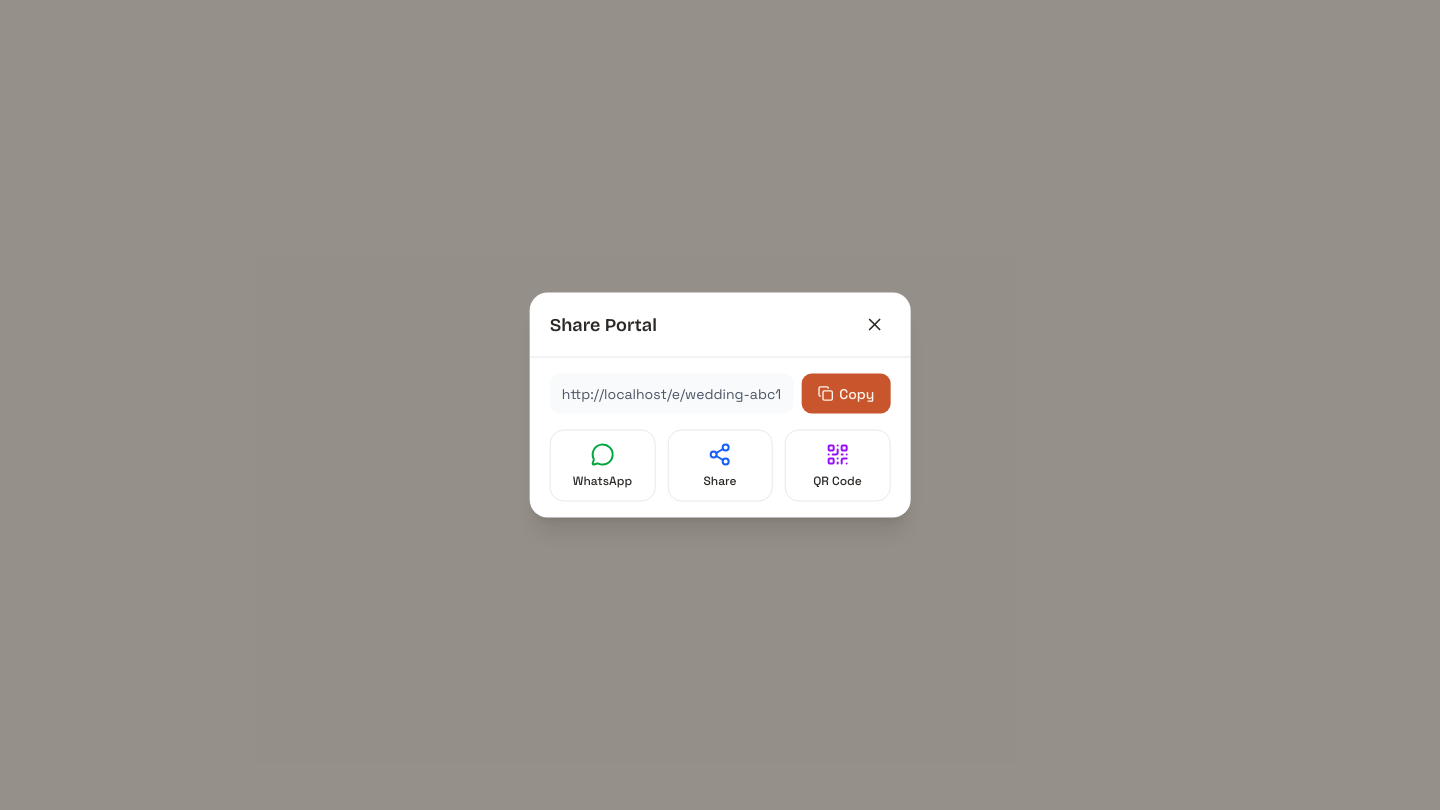
Test: ShareModal › shows 'Copied!' after copy
Step 1. Click the button with test id "share-copy" → (846, 394), box [801,374,890,414]
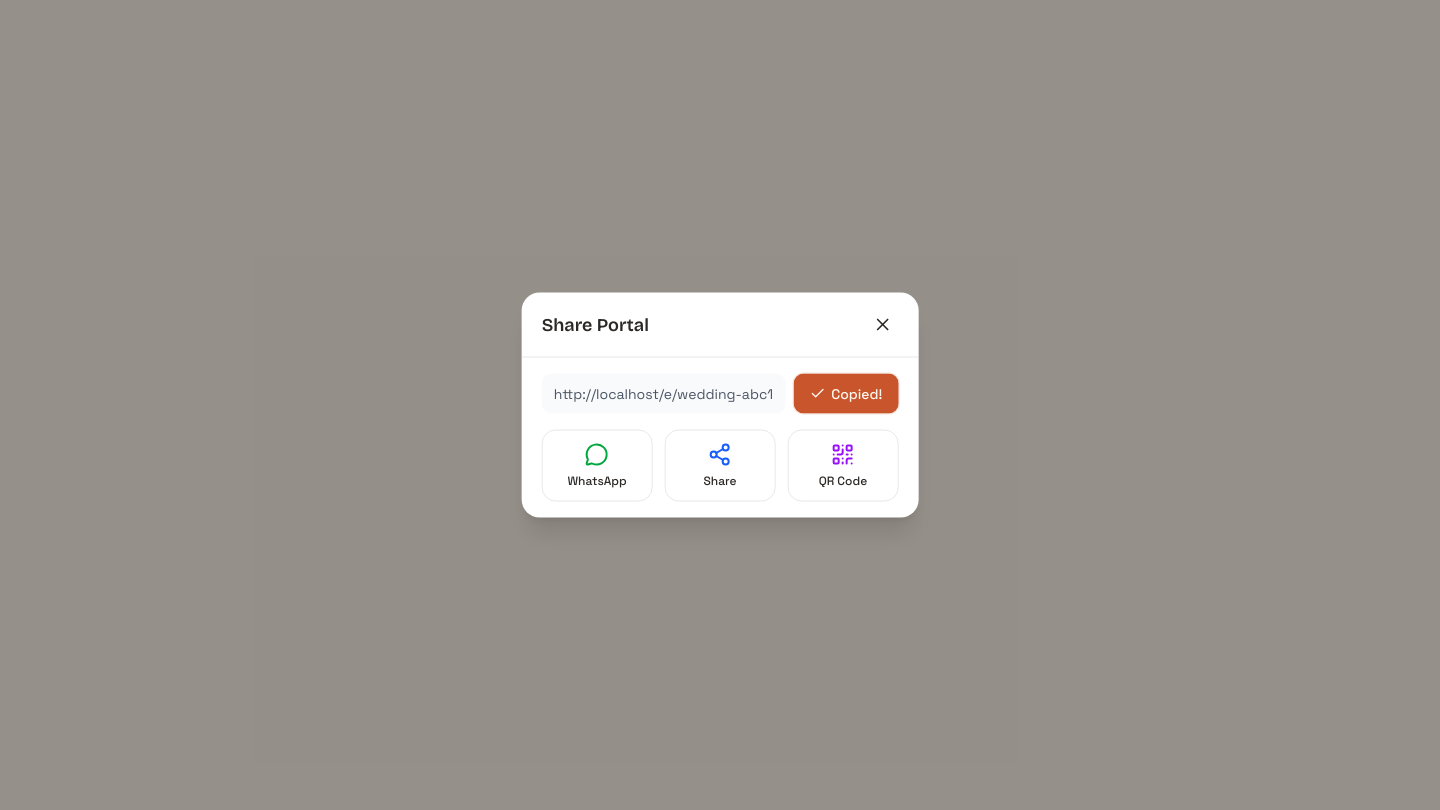
Now the button "Copied!" is shown, box [793,374,898,414]
